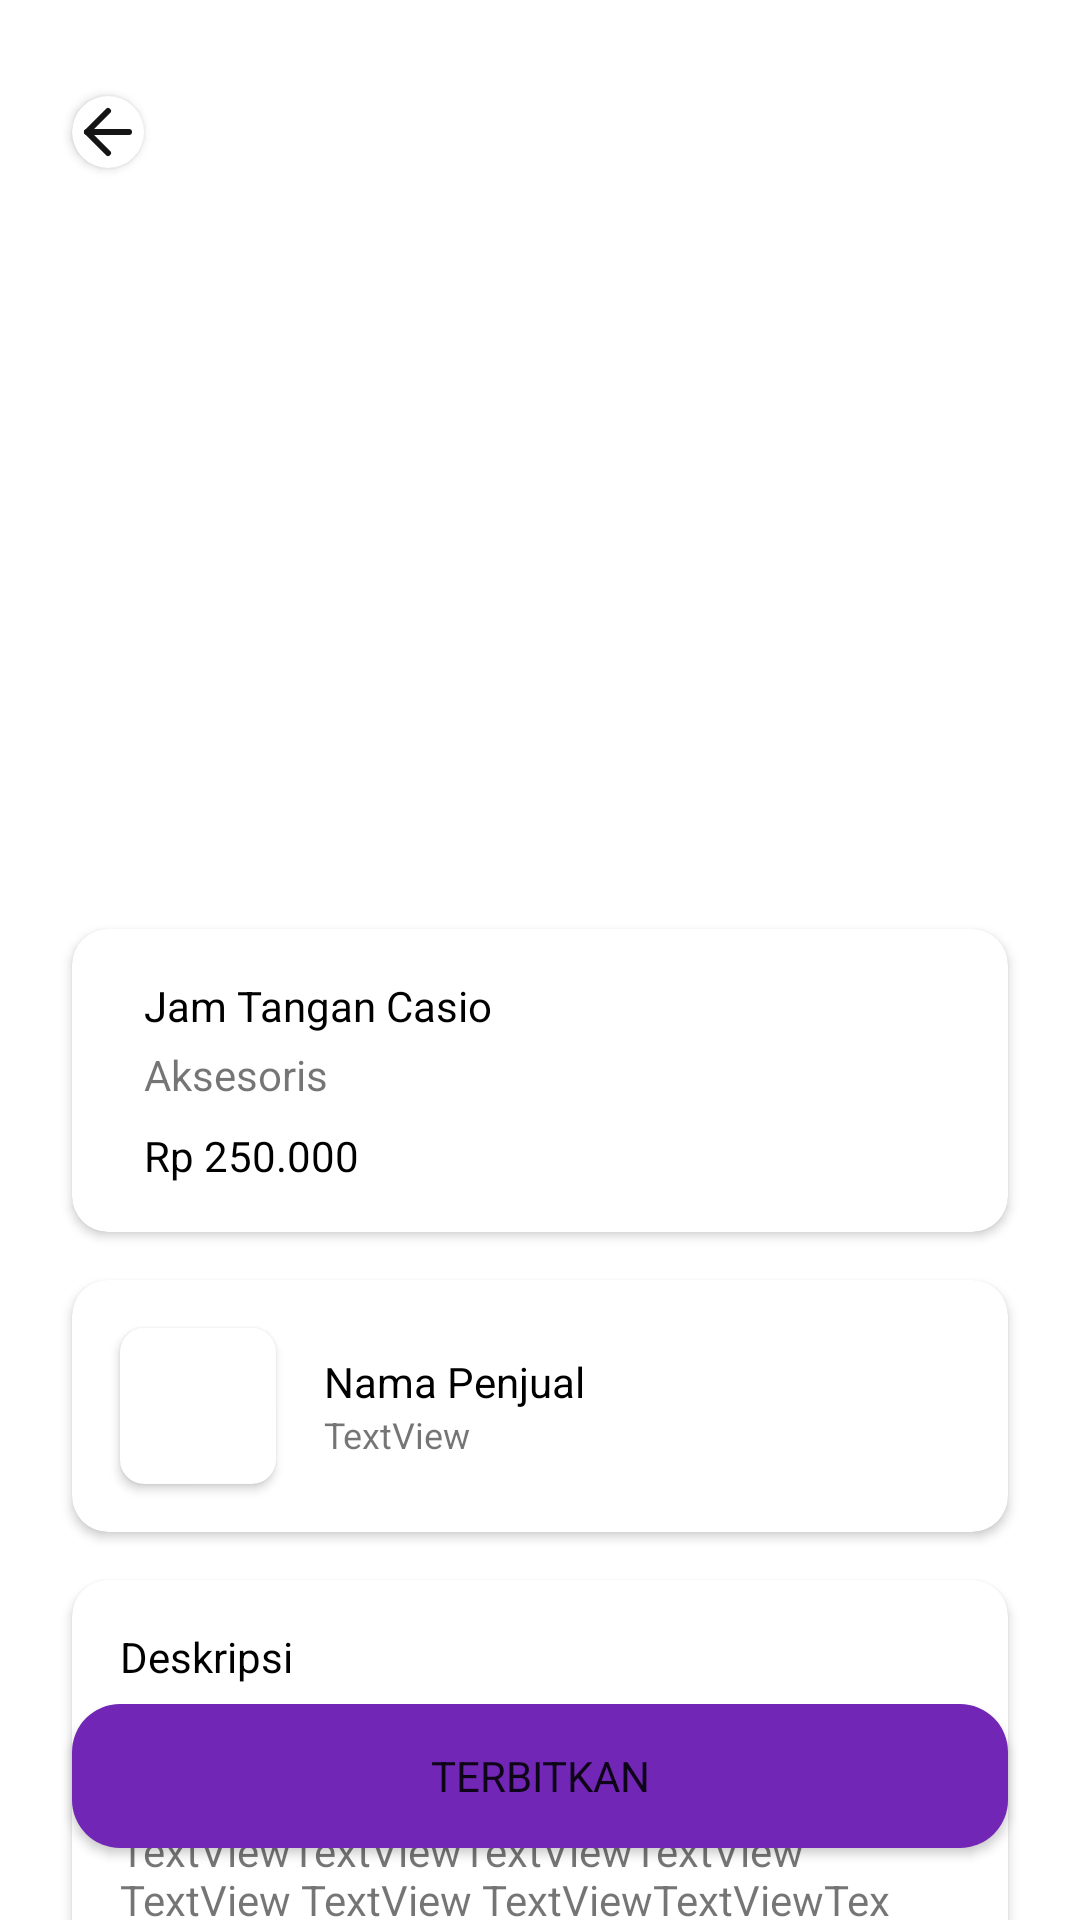

Where icons sit on this 1080 × 1920 app screen, as (x1,y1,x2,y2):
arrow left: (72,102,132,168)
